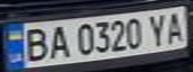0: (72, 20, 96, 56), (124, 15, 145, 51)
2: (109, 17, 130, 52)
3: (93, 18, 112, 55)
A: (160, 8, 190, 44), (45, 22, 72, 61)
B: (18, 25, 51, 63)
Y: (145, 11, 172, 47)
